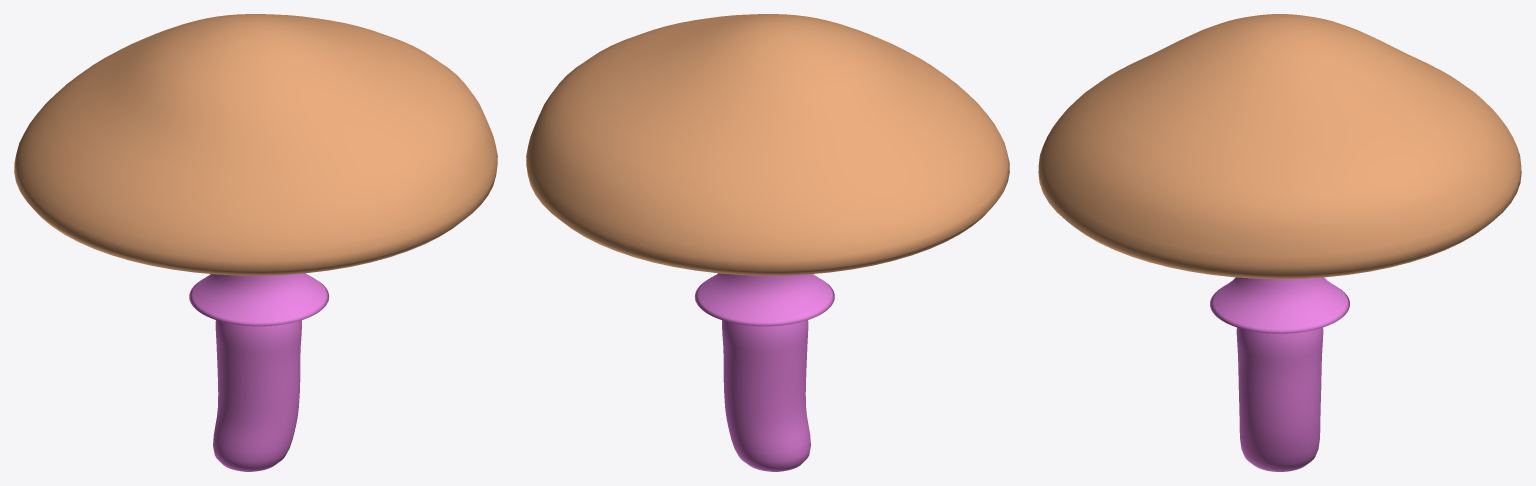
Rendered from POP_Mushroom.fbx.
3 views of the same model, side by side, from view 1: azimuth 30°, elevation 25°; view 2: azimuth 150°, elevation 25°; view 3: azimuth 270°, elevation 25° (orthographic).
Parts seen in each view (by area): view 1: Sphere; view 2: Sphere; view 3: Sphere.
Part boxes in pixels (box(x1,y1,x2,y2)): Sphere: box(14, 14, 497, 471); Sphere: box(526, 14, 1009, 471); Sphere: box(1038, 14, 1521, 471).
Size of the model in its own units: 313 by 313 by 312.
